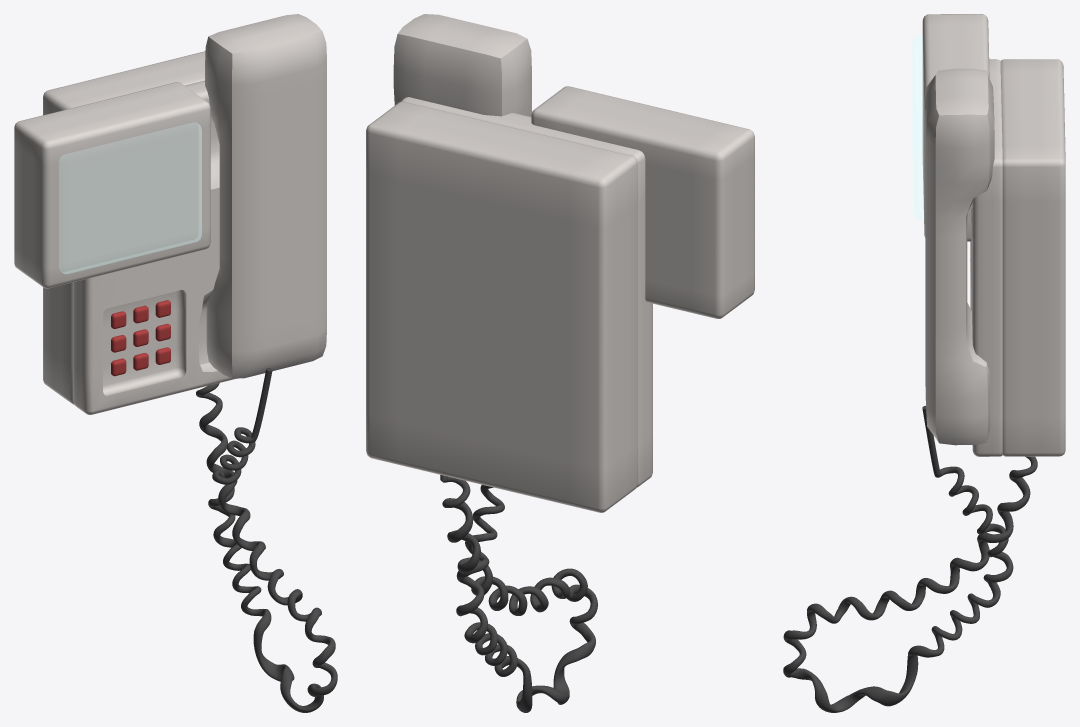
File: Phone.fbx
3 renders of one model, left to right at view 1: azimuth 30°, elevation 25°; view 2: azimuth 150°, elevation 25°; view 3: azimuth 270°, elevation 25°, orthographic. The views are drawn at different scales.
Parts seen in each view (by area): view 1: PhoneBase, Phone, Emissive, Wire, Buttons; view 2: PhoneBase, Phone, Wire; view 3: PhoneBase, Phone, Wire, Emissive.
Boxes of the visible parts, x1,y1,x2,y2 form: PhoneBase: (14, 51, 235, 414); Phone: (205, 14, 326, 378); Emissive: (59, 123, 201, 273); Wire: (196, 368, 337, 712); Buttons: (111, 300, 170, 376); PhoneBase: (366, 86, 754, 512); Phone: (393, 14, 531, 116); Wire: (440, 475, 597, 712); PhoneBase: (922, 14, 1065, 456); Phone: (925, 68, 994, 445); Wire: (783, 405, 1037, 712); Emissive: (912, 36, 923, 219).
Bounding box in the file's own units: 1.48 × 3.02 × 1.21.
